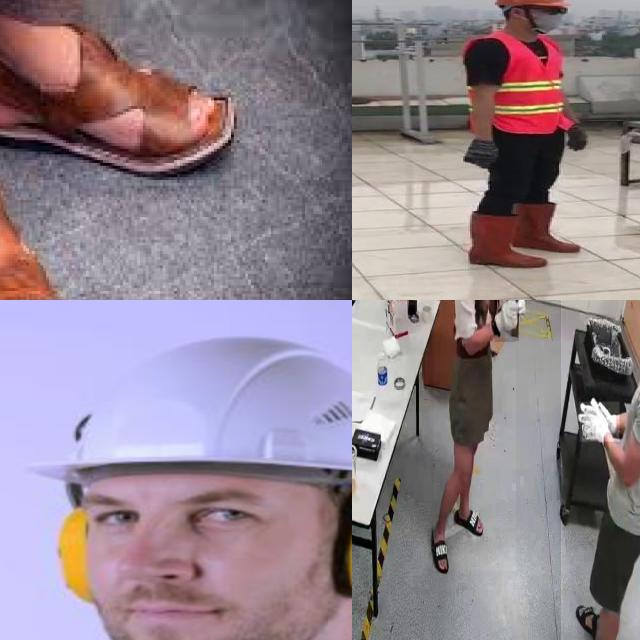Ear-protection: (47, 331, 352, 640)
No_Glasses: (82, 481, 315, 554)
Sandals: (0, 0, 236, 177), (0, 129, 92, 300)
boots: (465, 213, 545, 267), (511, 194, 579, 252)
hand_glove: (580, 402, 620, 442), (494, 300, 519, 342)
head_helmet: (490, 0, 572, 7)
person: (454, 0, 597, 267), (561, 300, 640, 640), (433, 300, 516, 571)
vest: (464, 33, 578, 130)
